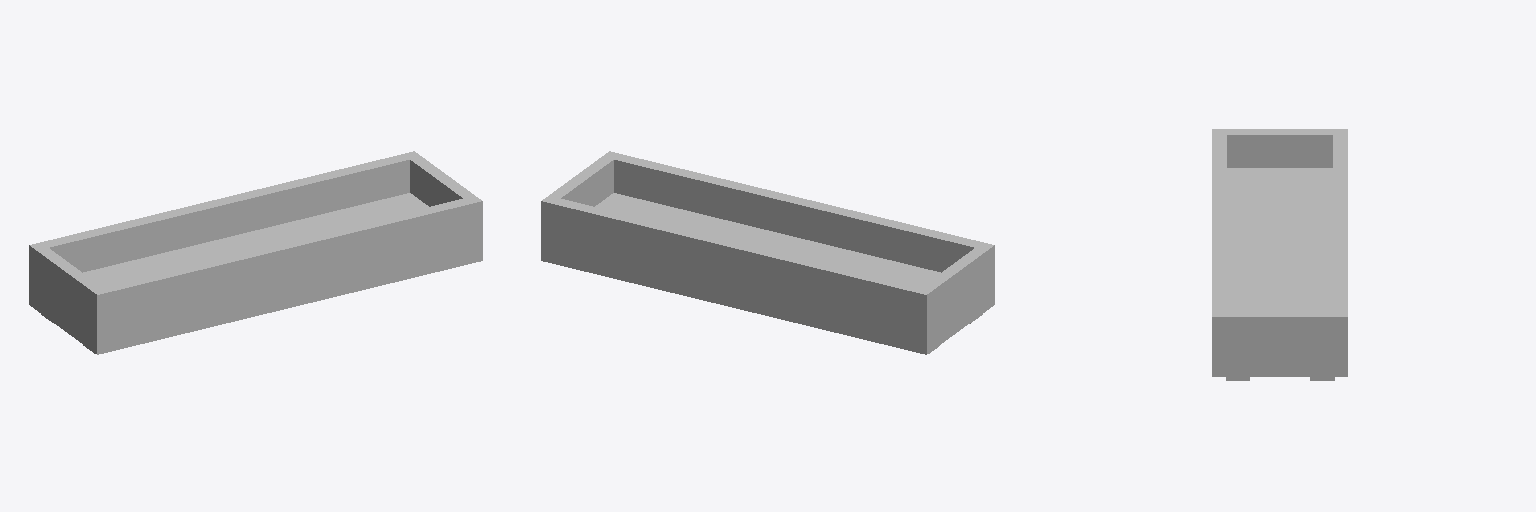
Rendered from shrub_box_thing.obj.
The picture shows the model from 3 angles: view 1: azimuth 30°, elevation 25°; view 2: azimuth 150°, elevation 25°; view 3: azimuth 270°, elevation 25°; orthographic projection.
Visible parts, largest first — view 1: pCube8; view 2: pCube8; view 3: pCube8.
Part boxes in pixels (x1,y1,x2,y2): pCube8: (29, 151, 482, 354); pCube8: (541, 151, 994, 354); pCube8: (1212, 129, 1347, 380).
Size of the model in its own units: 6.74 by 1.1 by 2.07.